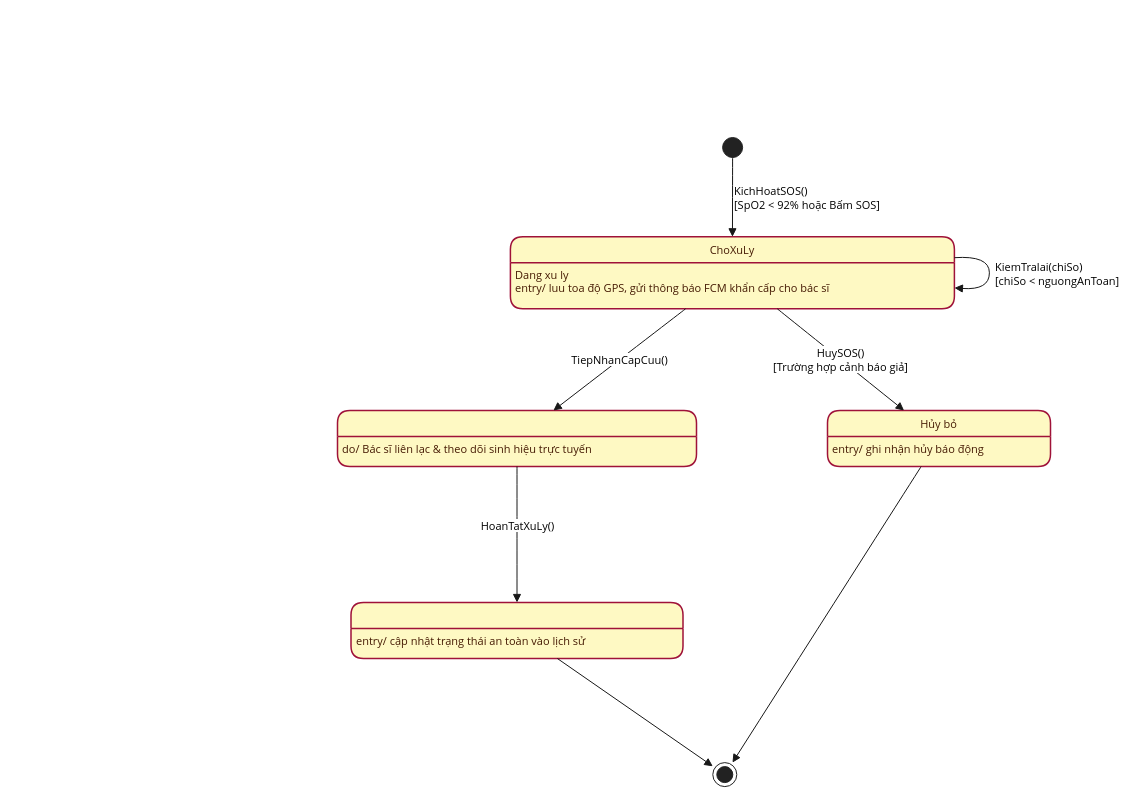
The diagram is 1136 pixels wide and 804 high, and some of its shapes have lost their labels. Here are the shapes that lost their labels. From the top down, the box of each, then its label:
(336, 409, 697, 467): Đang xử lý / Hỗ trợ y tế
(350, 601, 683, 659): Đã hoàn tất
